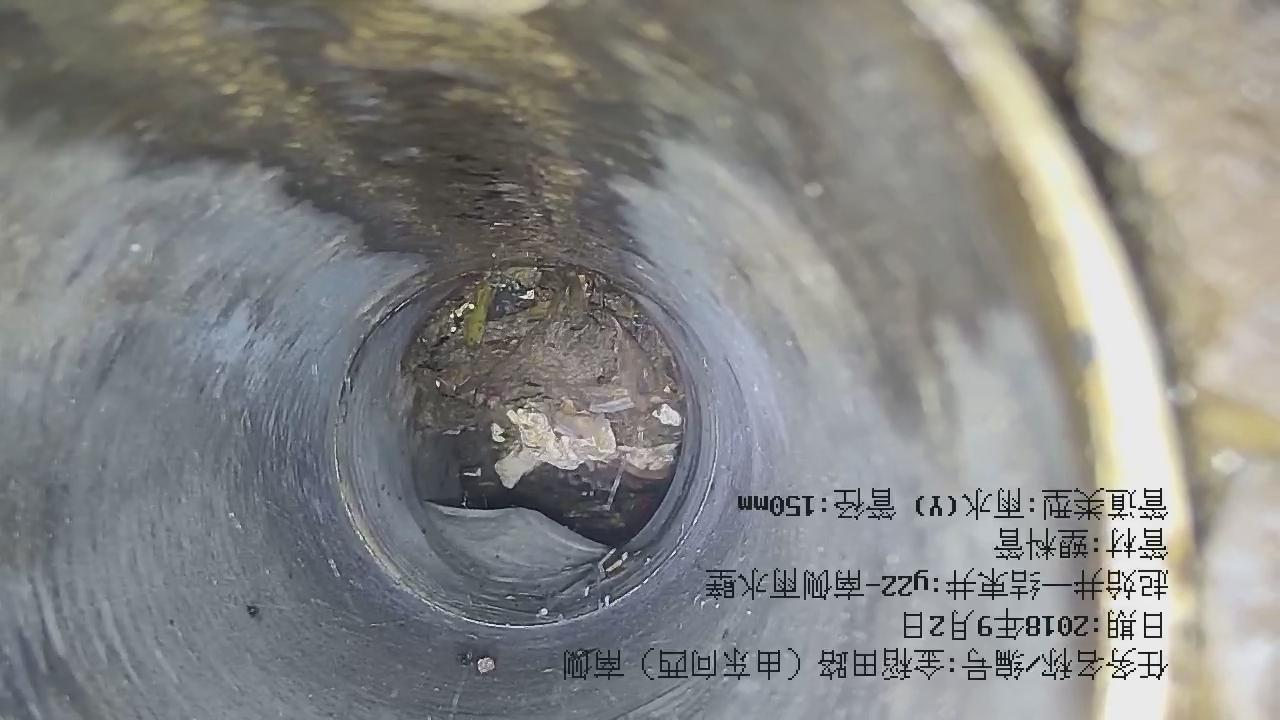BX: (421, 495, 620, 607)
CJ: (403, 268, 685, 544)
